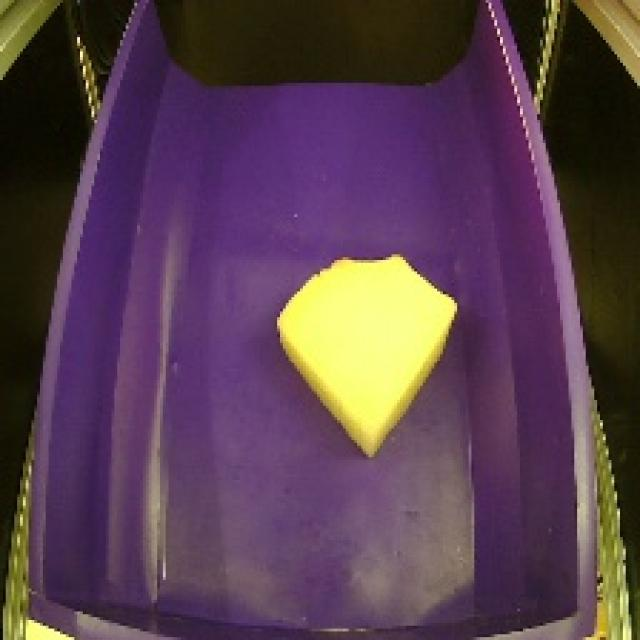potato: (264, 250, 474, 460)
